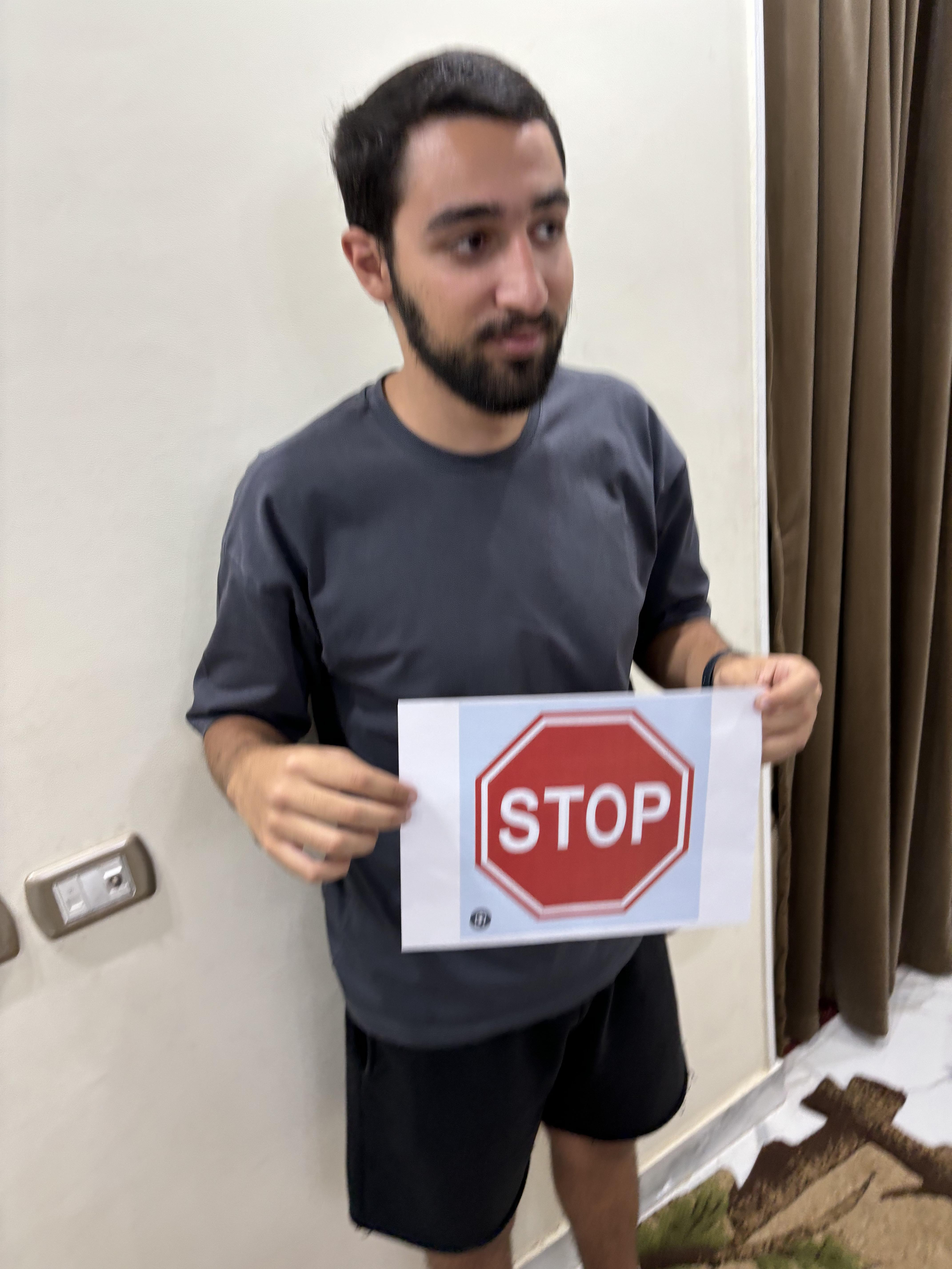Stop: (468, 707, 703, 931)
